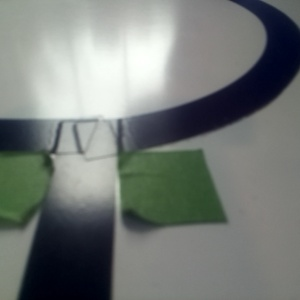bottom_right: (144, 71, 253, 119)
